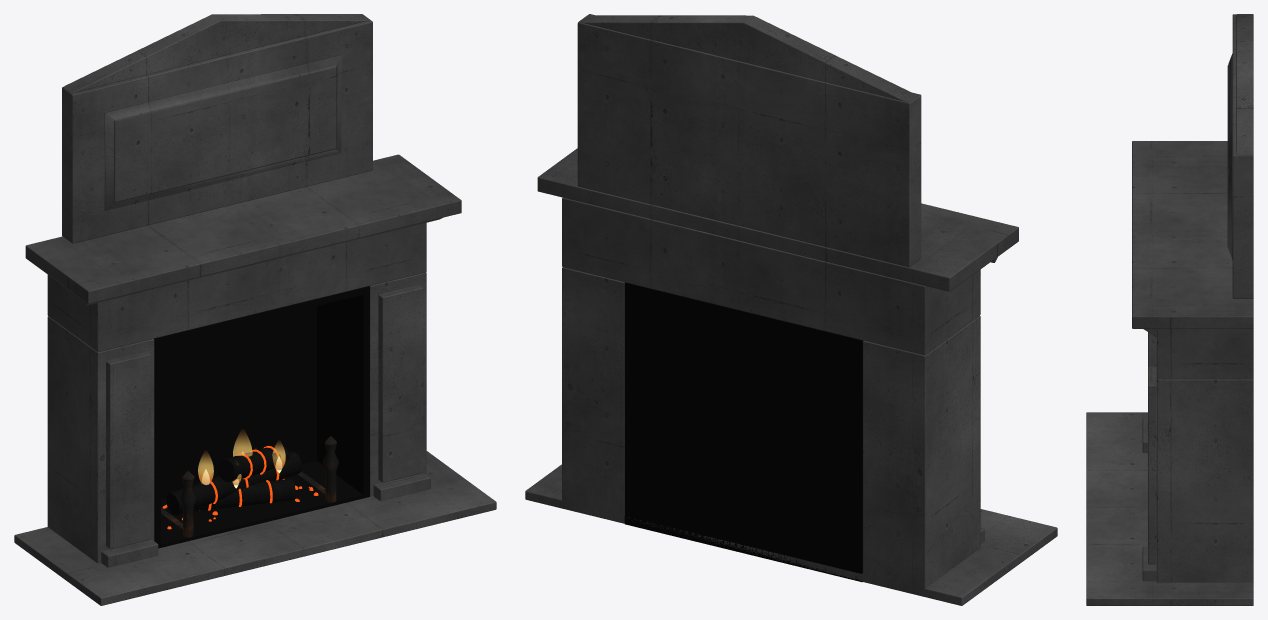
The model's file is Fireplace.gltf.
The picture shows the model from 3 angles, left to right: view 1: azimuth 30°, elevation 25°; view 2: azimuth 150°, elevation 25°; view 3: azimuth 270°, elevation 25°; orthographic projection. The views are drawn at different scales.
Visible parts, largest first — view 1: Fireplace_Stone, Fireplace_Soot, Fireplace_Logs, Fireplace_Iron, Fireplace_Flame; view 2: Fireplace_Stone, Fireplace_Soot; view 3: Fireplace_Stone.
Boxes of the visible parts, <box> form: Fireplace_Stone: <box>14,14,496,605</box>; Fireplace_Soot: <box>154,286,369,548</box>; Fireplace_Logs: <box>162,444,318,529</box>; Fireplace_Iron: <box>161,436,338,537</box>; Fireplace_Flame: <box>198,431,285,488</box>; Fireplace_Stone: <box>525,14,1057,605</box>; Fireplace_Soot: <box>624,282,863,582</box>; Fireplace_Stone: <box>1086,14,1253,605</box>.
Size of what is drawn, in the model's own units: 2.5 by 2.9 by 0.95.
Materials: 7 (4 with a texture image).
